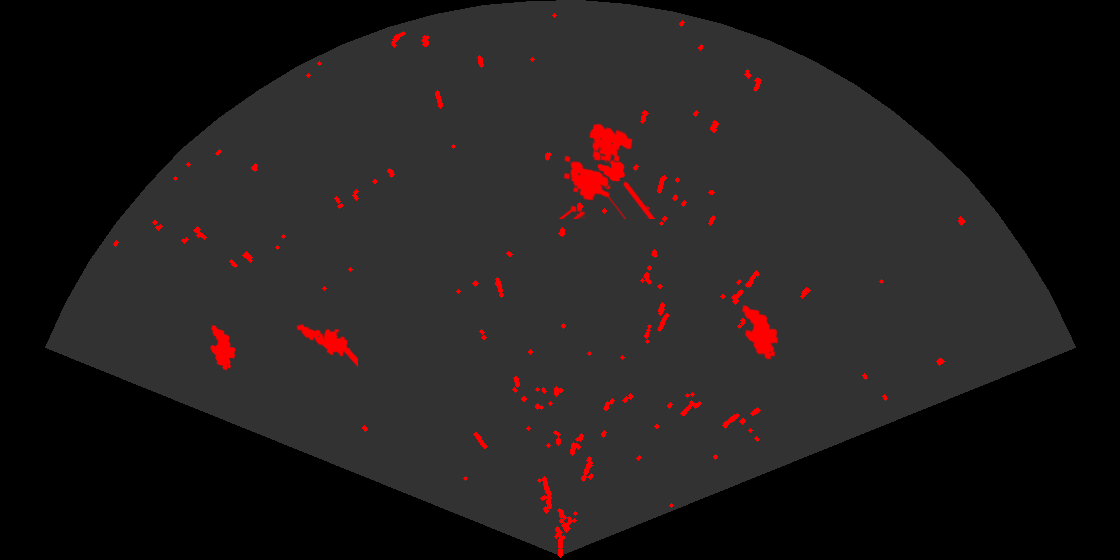AUV: (740, 303, 780, 361), (209, 324, 237, 372)
ball: (591, 153, 627, 191)
cage: (557, 122, 657, 219)
frogman: (295, 323, 358, 369)
